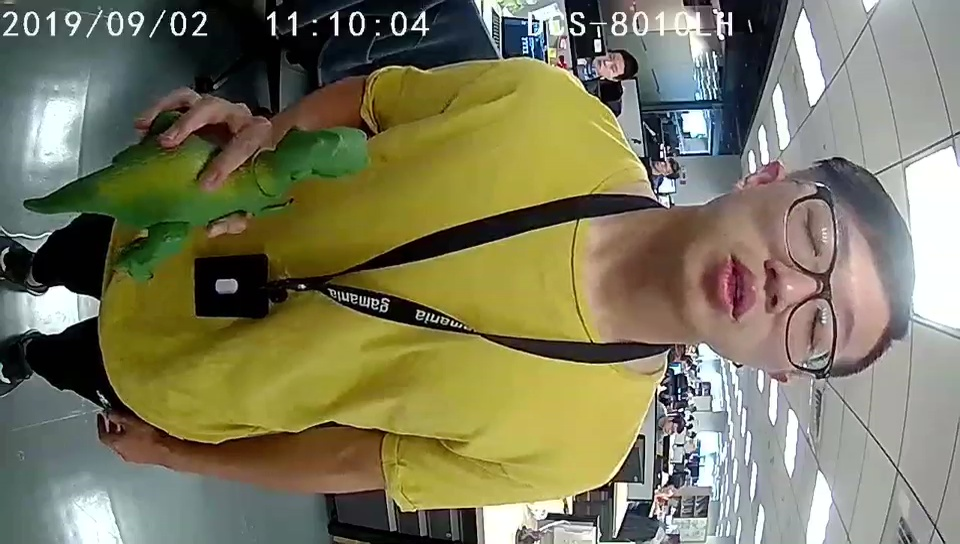rex: (108, 124, 372, 284)
